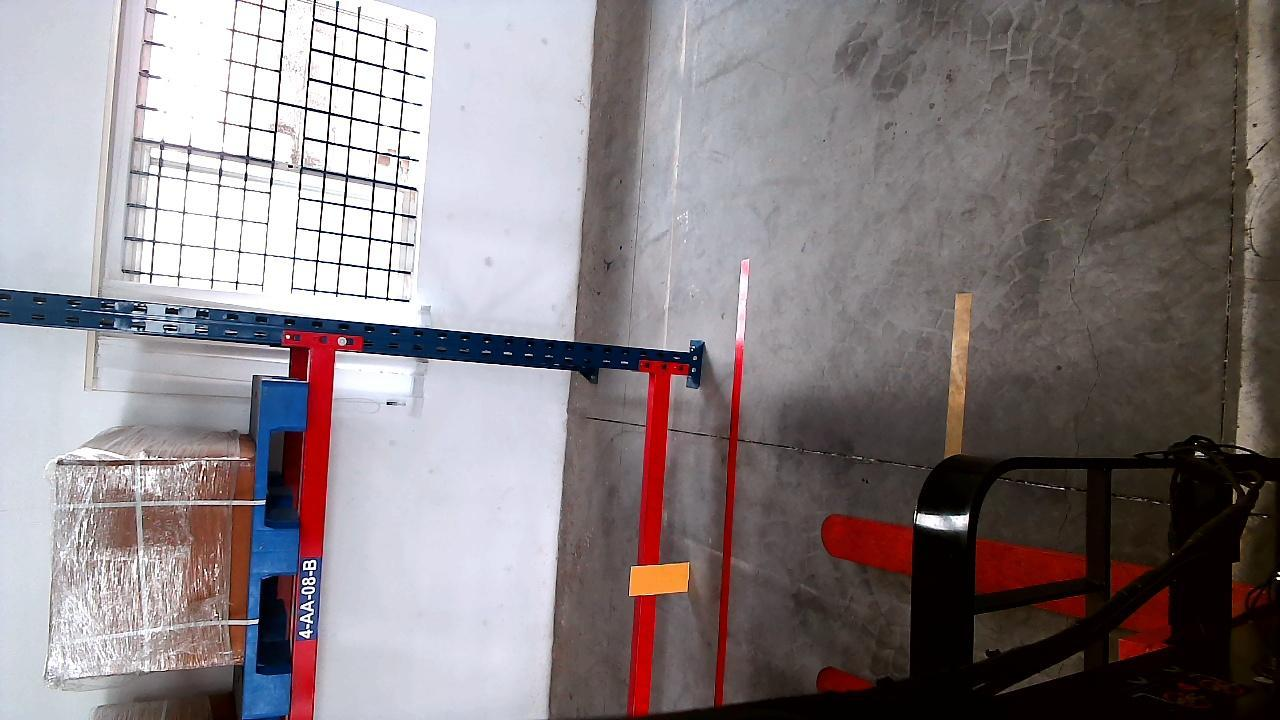red_line: (711, 261, 753, 706)
yellow_line: (945, 292, 970, 457)
